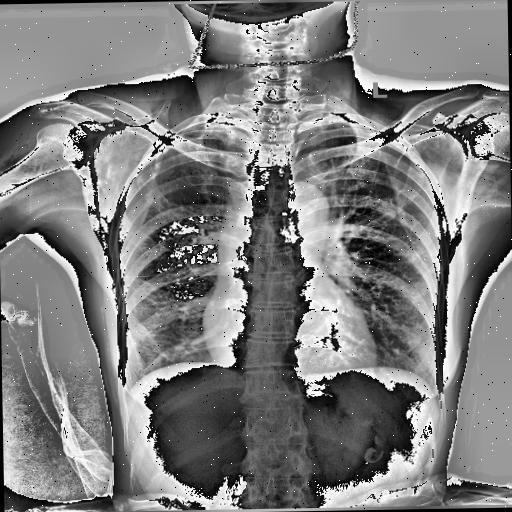0- Aortic enlargement: (272, 178, 330, 238), (274, 180, 329, 242), (276, 180, 332, 240)
11- Pleural thickening: (346, 118, 404, 153), (140, 132, 182, 164), (150, 129, 186, 159), (154, 126, 188, 156)
5- ILD: (357, 242, 429, 375), (124, 268, 204, 380)
